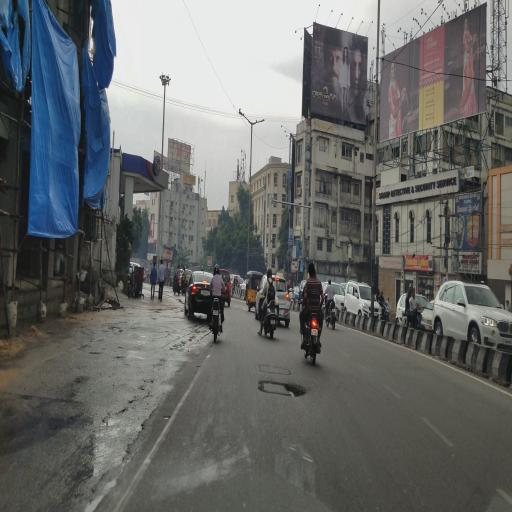street_light_0: (251, 106, 267, 132), (234, 107, 250, 133)
